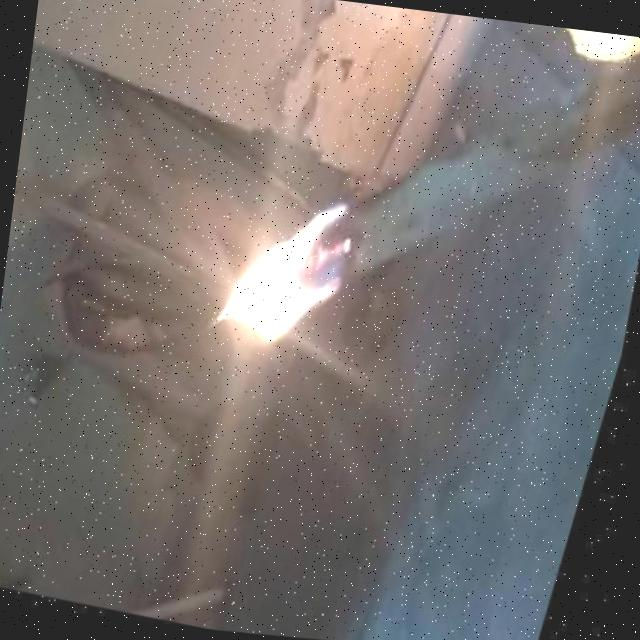fire: (206, 169, 358, 375)
